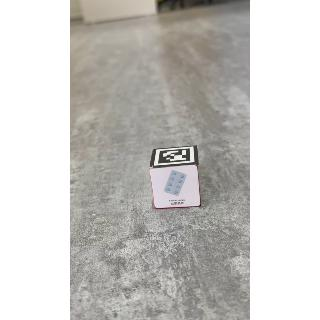Tablet: (149, 165, 203, 212)
